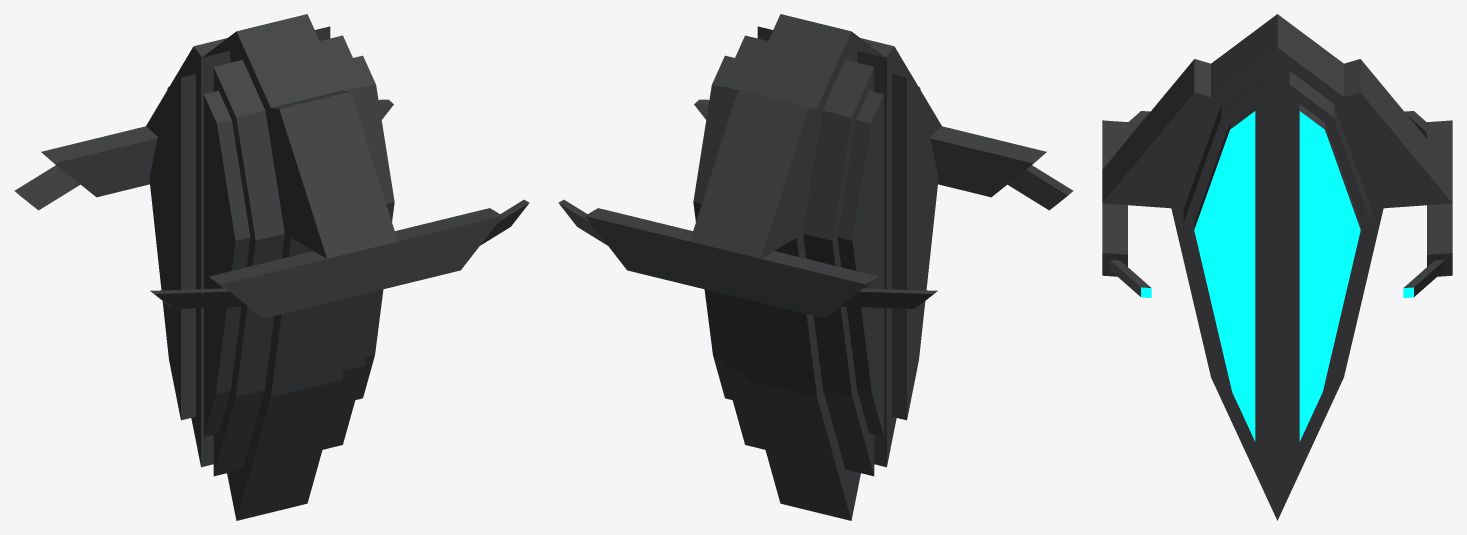
The model's file is CryoEnemy.fbx.
3 renders of one model, left to right at view 1: azimuth 30°, elevation 25°; view 2: azimuth 150°, elevation 25°; view 3: azimuth 270°, elevation 25°, orthographic. The views are drawn at different scales.
Parts seen in each view (by area): view 1: Cube; view 2: Cube; view 3: Cube.
Part boxes in pixels (x1,y1,x2,y2): Cube: (14, 14, 529, 520); Cube: (558, 14, 1073, 520); Cube: (1102, 14, 1452, 520).
Size of the model in its own units: 270 by 338 by 227.
